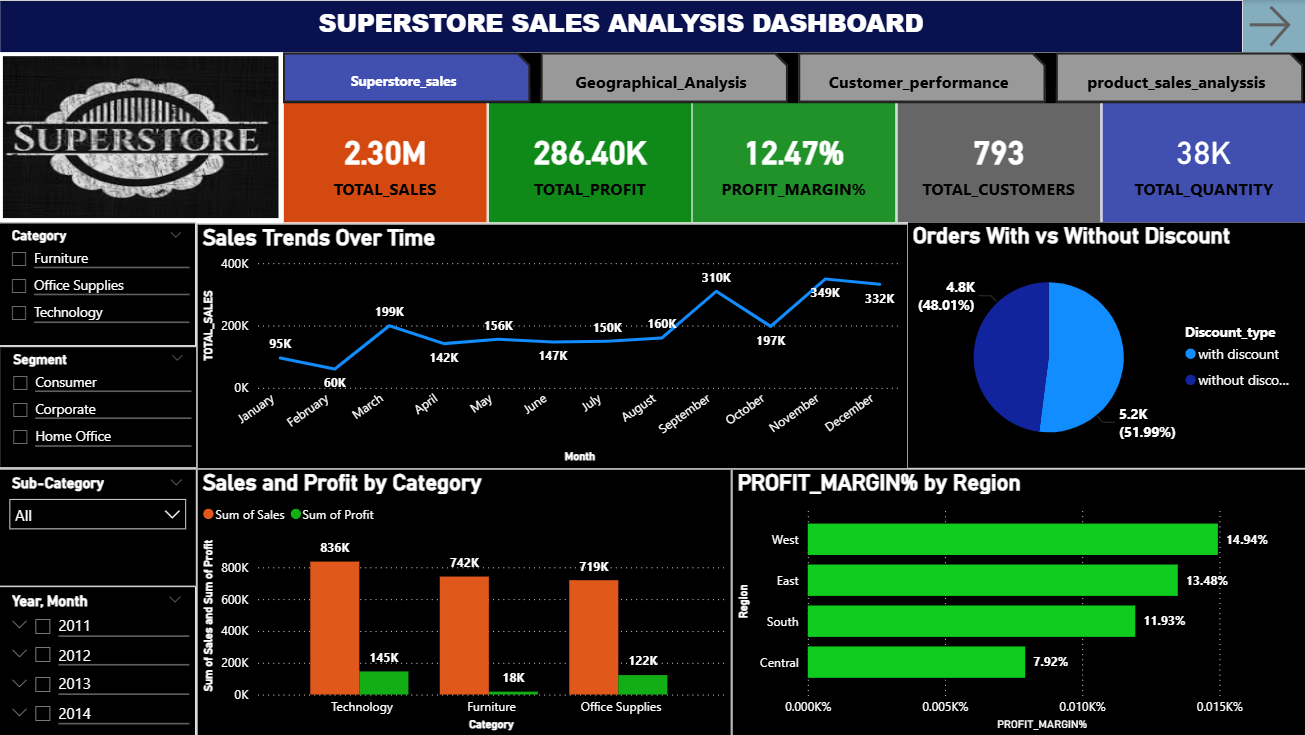

Layout of this report page (visuals, bound fields, positions):
{"tool":"powerbi","page":{"name":"Superstore_sales","canvas":[1280,720],"ordinal":0},"visuals":[{"type":"card","fields":{"Values":["Orders.TOTAL_SALES"]},"box":[278.6,98.8,200.3,119.4],"z":0},{"type":"card","fields":{"Values":["Orders.TOTAL_PROFIT"]},"box":[478.9,98.8,200.3,119.4],"z":1000},{"type":"card","fields":{"Values":["Orders.TOTAL_QUANTITY"]},"box":[1079.9,98.8,200.3,119.4],"z":2000},{"type":"card","fields":{"Values":["Orders.TOTAL_CUSTOMERS"]},"box":[879.6,98.8,200.3,119.4],"z":3000},{"type":"card","fields":{"Values":["Orders.PROFIT_MARGIN%"]},"box":[679.2,98.8,200.3,119.4],"z":4000},{"type":"lineChart","title":"Sales Trends Over Time","fields":{"Category":["Date_table.Month_name"],"Y":["Orders.TOTAL_SALES"]},"box":[194.4,218.9,695.8,239.7],"z":5000},{"type":"textbox","box":[1.2,0,1216.2,51.2],"z":6000},{"type":"clusteredColumnChart","title":"Sales and Profit by Category","fields":{"Category":["Orders.Category"],"Y":["Sum(Orders.Sales)","Sum(Orders.Profit)"]},"box":[194.9,458.3,522.8,262.1],"z":7000},{"type":"pieChart","title":"Orders With vs Without Discount","fields":{"Y":["CountNonNull(Orders.Order ID)"],"Category":["Orders.Discount_type"]},"box":[890.6,218.2,389.7,240.1],"z":8000},{"type":"slicer","fields":{"Values":["Orders.Category"]},"box":[0,217.7,193.2,121.1],"z":9000},{"type":"slicer","fields":{"Values":["Orders.Segment"]},"box":[1.4,338.9,193.5,119.4],"z":10000},{"type":"slicer","fields":{"Values":["Orders.Sub-Category"]},"box":[0,458.6,194.4,114.9],"z":11000},{"type":"barChart","fields":{"Y":["Orders.PROFIT_MARGIN%"],"Category":["Orders.Region"]},"box":[717.7,458.3,562.6,262.1],"z":12000},{"type":"pageNavigator","box":[278.6,50.8,1001.7,49.4],"z":13000},{"type":"image","box":[0,50.6,279,167.9],"z":14000},{"type":"actionButton","box":[1217.5,0,62.5,51.2],"z":15000},{"type":"slicer","fields":{"Values":["Date_table.Year","Date_table.Month"]},"box":[0,573.5,193.2,146.7],"z":16000}]}

Visuals, with their boxes in screenshot pixels (x1, y1, x2, y2), scaled from the page's 1280x720 canvas onto the 1305x735 screenshot:
card - Orders.TOTAL_SALES: bbox(284, 101, 488, 223)
card - Orders.TOTAL_PROFIT: bbox(488, 101, 692, 223)
card - Orders.TOTAL_QUANTITY: bbox(1101, 101, 1304, 223)
card - Orders.TOTAL_CUSTOMERS: bbox(897, 101, 1101, 223)
card - Orders.PROFIT_MARGIN%: bbox(692, 101, 897, 223)
"Sales Trends Over Time" lineChart: bbox(198, 223, 908, 468)
textbox: bbox(1, 0, 1241, 52)
"Sales and Profit by Category" clusteredColumnChart: bbox(199, 468, 732, 734)
"Orders With vs Without Discount" pieChart: bbox(908, 223, 1304, 468)
slicer - Orders.Category: bbox(0, 222, 197, 346)
slicer - Orders.Segment: bbox(1, 346, 199, 468)
slicer - Orders.Sub-Category: bbox(0, 468, 198, 585)
barChart - Orders.PROFIT_MARGIN% x Orders.Region: bbox(732, 468, 1304, 734)
pageNavigator: bbox(284, 52, 1304, 102)
image: bbox(0, 52, 284, 223)
actionButton: bbox(1241, 0, 1304, 52)
slicer - Date_table.Year x Date_table.Month: bbox(0, 585, 197, 734)
